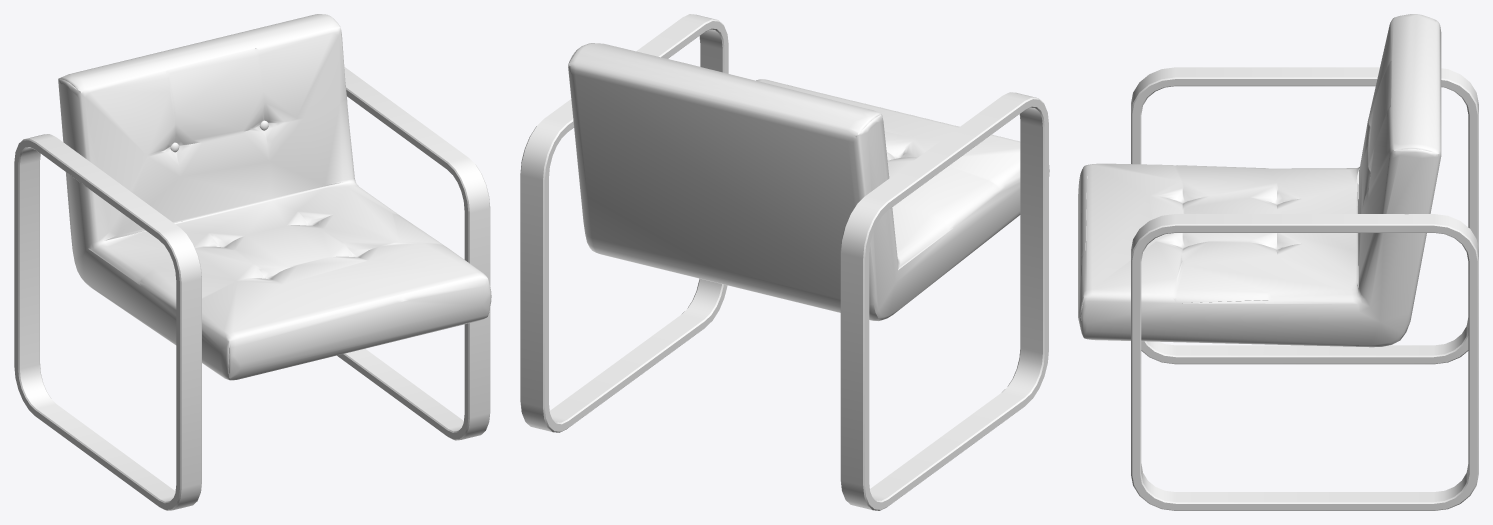
Rendered from Chair-Varieta-reduced.fbx.
3 renders of one model, left to right at view 1: azimuth 30°, elevation 25°; view 2: azimuth 150°, elevation 25°; view 3: azimuth 270°, elevation 25°, orthographic. The views are drawn at different scales.
Visible parts, largest first — view 1: Rectangle028; view 2: Rectangle028; view 3: Rectangle028.
Boxes of the visible parts, left/top/right/bottom form: Rectangle028: left=14, top=14, right=491, bottom=510; Rectangle028: left=520, top=14, right=1049, bottom=510; Rectangle028: left=1078, top=14, right=1478, bottom=510.
Size of the model in its own units: 131 by 137 by 140.
Materials: 2 (1 with a texture image).
